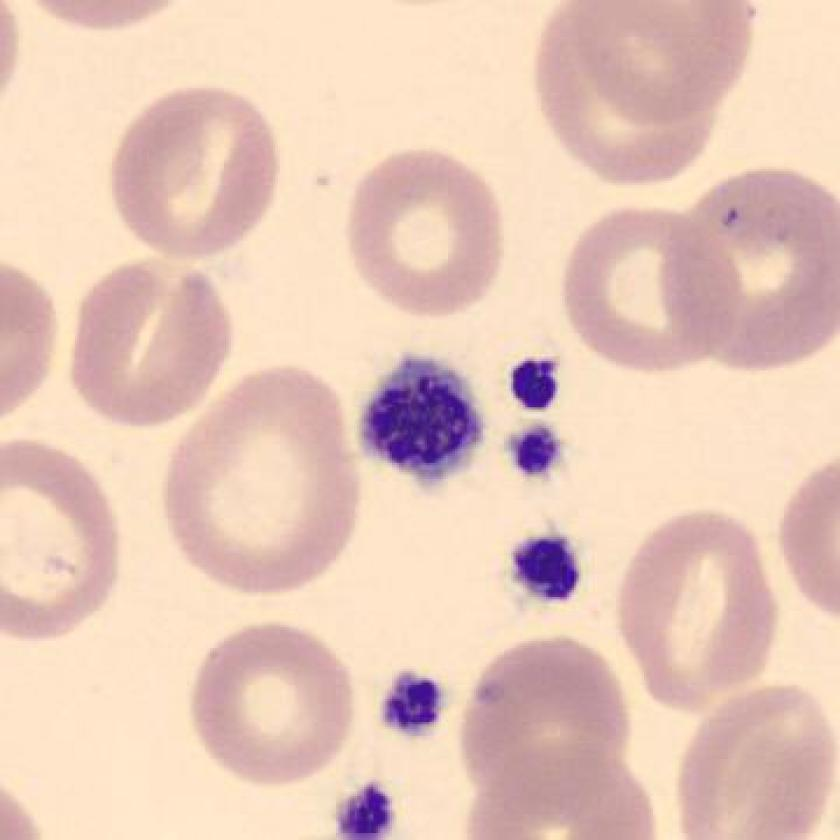platelets: (346, 343, 491, 501), (498, 522, 596, 614), (374, 663, 456, 751), (496, 415, 573, 489), (325, 774, 407, 840), (505, 346, 568, 420)
